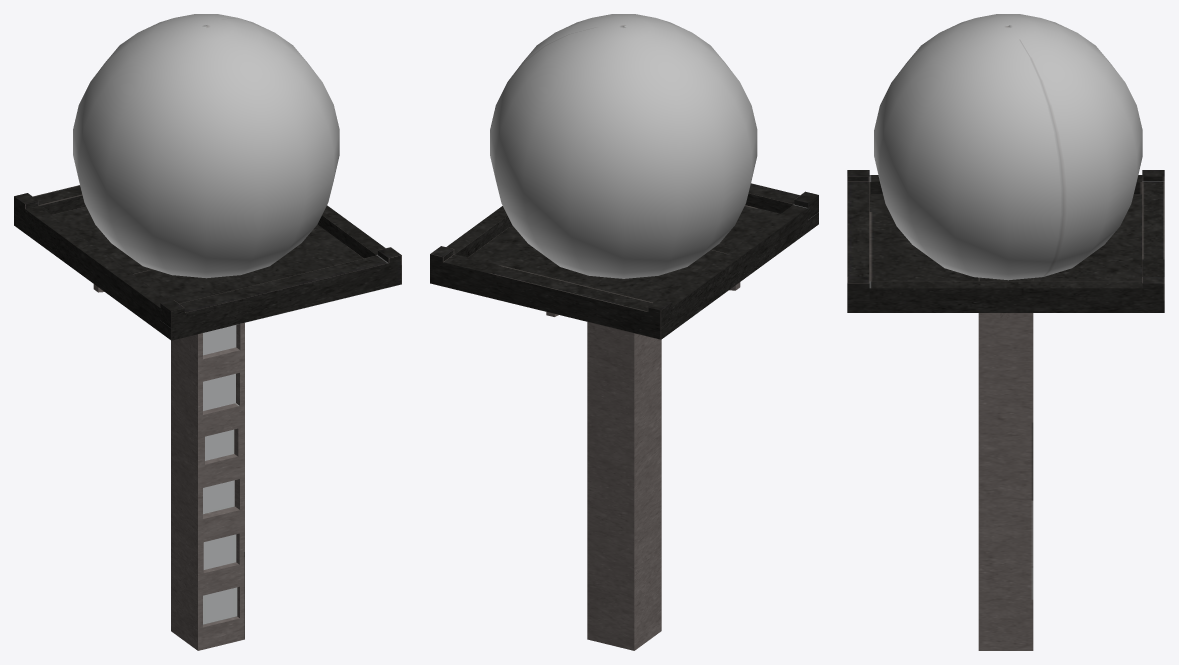
Rendered from RadarBall.fbx.
3 views of the same model, side by side, from view 1: azimuth 30°, elevation 25°; view 2: azimuth 150°, elevation 25°; view 3: azimuth 270°, elevation 25° (orthographic).
Visible parts, largest first — view 1: Radar, Block; view 2: Radar, Block; view 3: Radar, Block.
Part boxes in pixels (<box>): Radar: <box>73,14,339,278</box>; Block: <box>14,185,401,650</box>; Radar: <box>490,14,757,278</box>; Block: <box>430,183,818,650</box>; Radar: <box>874,14,1142,280</box>; Block: <box>847,170,1164,650</box>.
Bounding box in the file's own units: 0.0848 × 0.2136 × 0.1002.
Materials: 1 (1 with a texture image).
